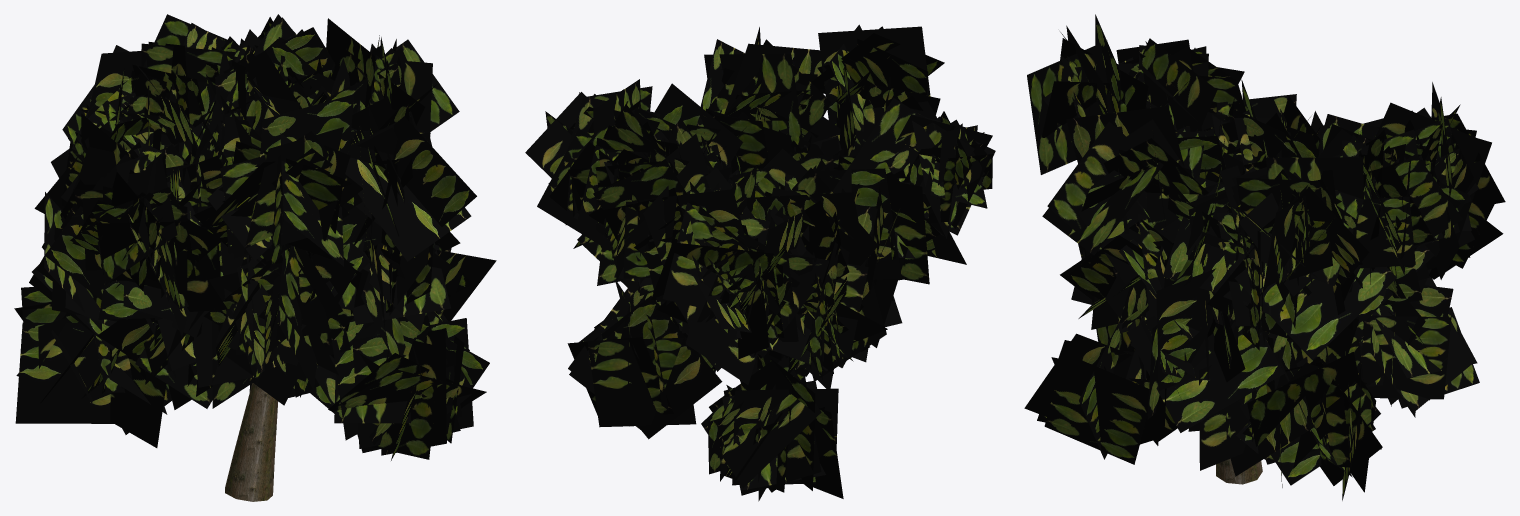
3 renders of one model, left to right at view 1: azimuth 30°, elevation 25°; view 2: azimuth 150°, elevation 25°; view 3: azimuth 270°, elevation 25°, orthographic. The views are drawn at different scales.
Parts seen in each view (by area): view 1: plane; view 2: plane; view 3: plane.
Part boxes in pixels (box(x1,y1,x2,y2)): plane: box(14, 14, 496, 501); plane: box(525, 24, 995, 501); plane: box(1024, 14, 1505, 500).
Bounding box in the file's own units: 10.89 × 10.84 × 10.93.
Materials: 2 (2 with a texture image).
